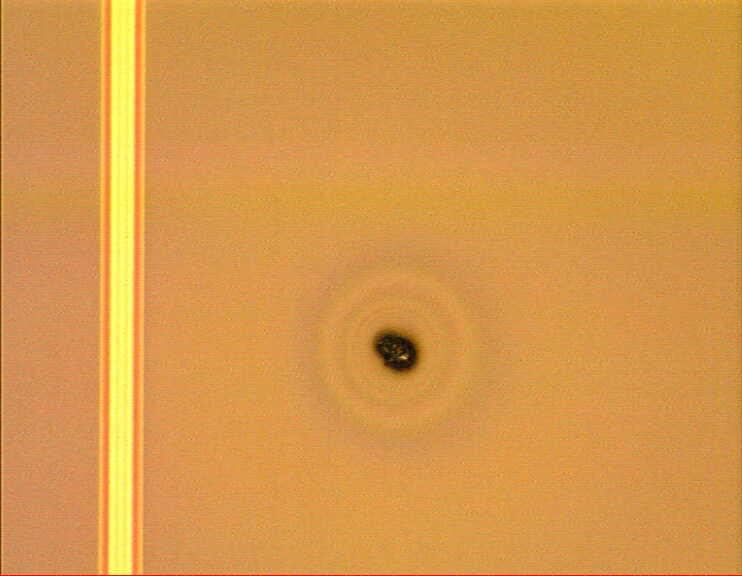PIQ PARTICLE: (362, 319, 430, 387)
